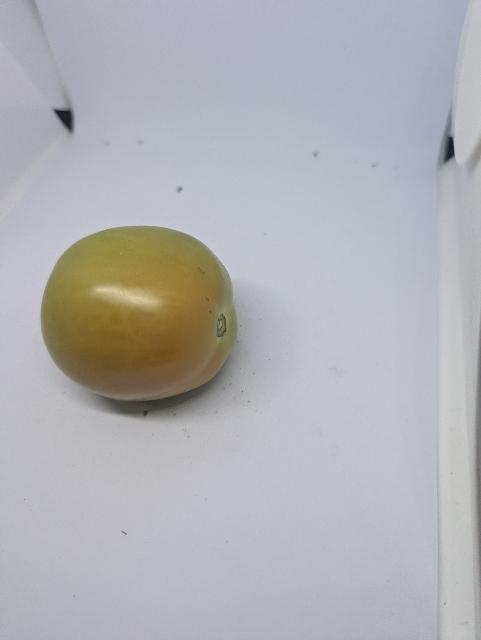breaker: (34, 219, 241, 406)
